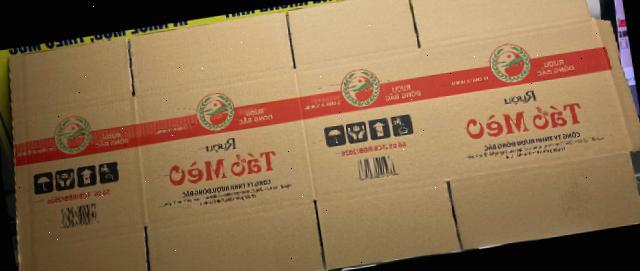box: (9, 0, 640, 271)
